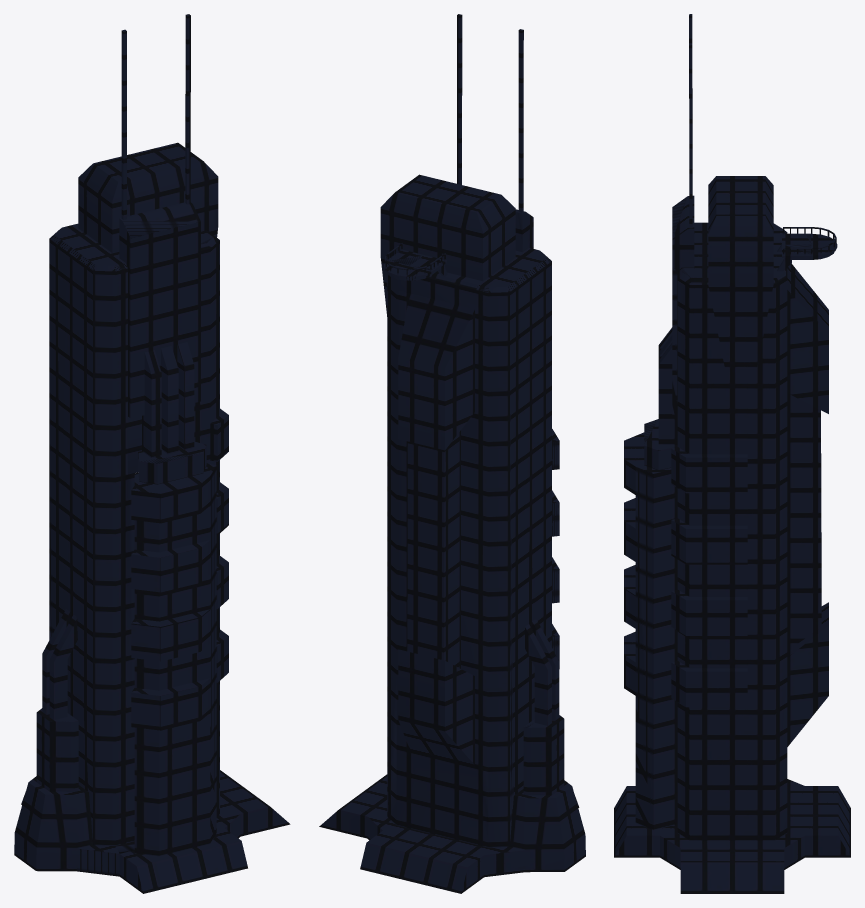
Rendered from building.glb.
3 renders of one model, left to right at view 1: azimuth 30°, elevation 25°; view 2: azimuth 150°, elevation 25°; view 3: azimuth 270°, elevation 25°, orthographic. The views are drawn at different scales.
Parts seen in each view (by area): view 1: SM_building5; view 2: SM_building5; view 3: SM_building5.
Boxes of the visible parts, x1,y1,x2,y2 form: SM_building5: (14,14,290,893); SM_building5: (319,14,585,893); SM_building5: (614,14,850,893).
Bounding box in the file's own units: 840 × 2785 × 745.
Materials: 1 (1 with a texture image).
